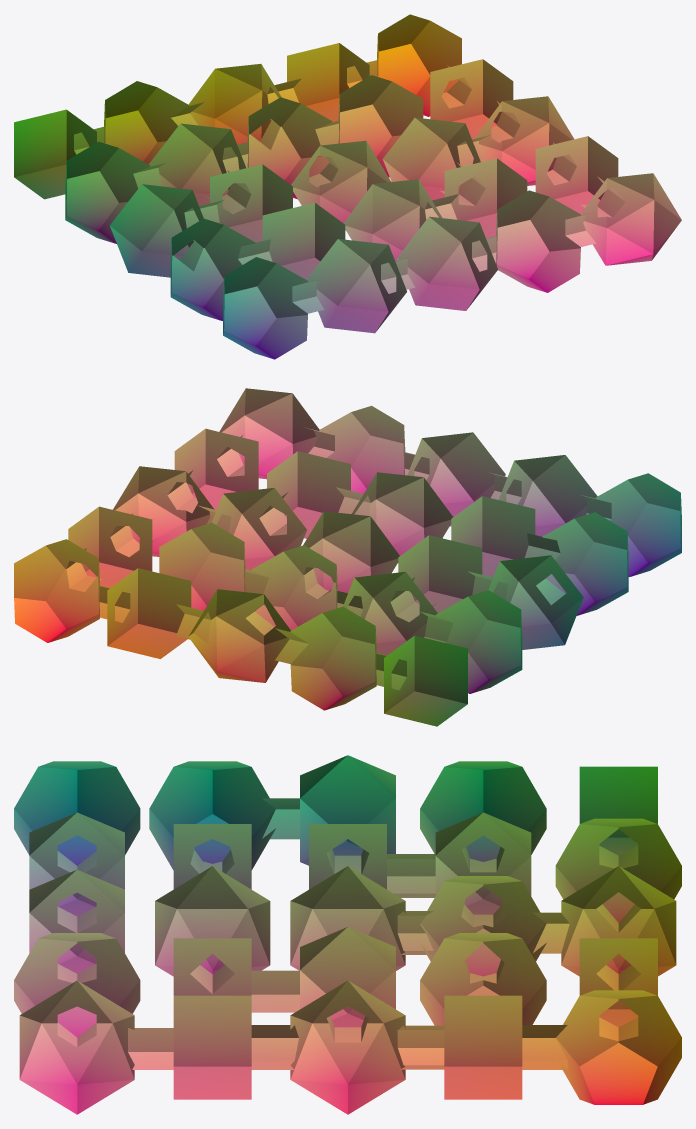
File: Maze.gltf
3 renders of one model, top to bottom at view 1: azimuth 30°, elevation 25°; view 2: azimuth 150°, elevation 25°; view 3: azimuth 270°, elevation 25°, orthographic. The views are drawn at different scales.
Bounding box in the file's own units: 49.34 × 9.34 × 49.34.
